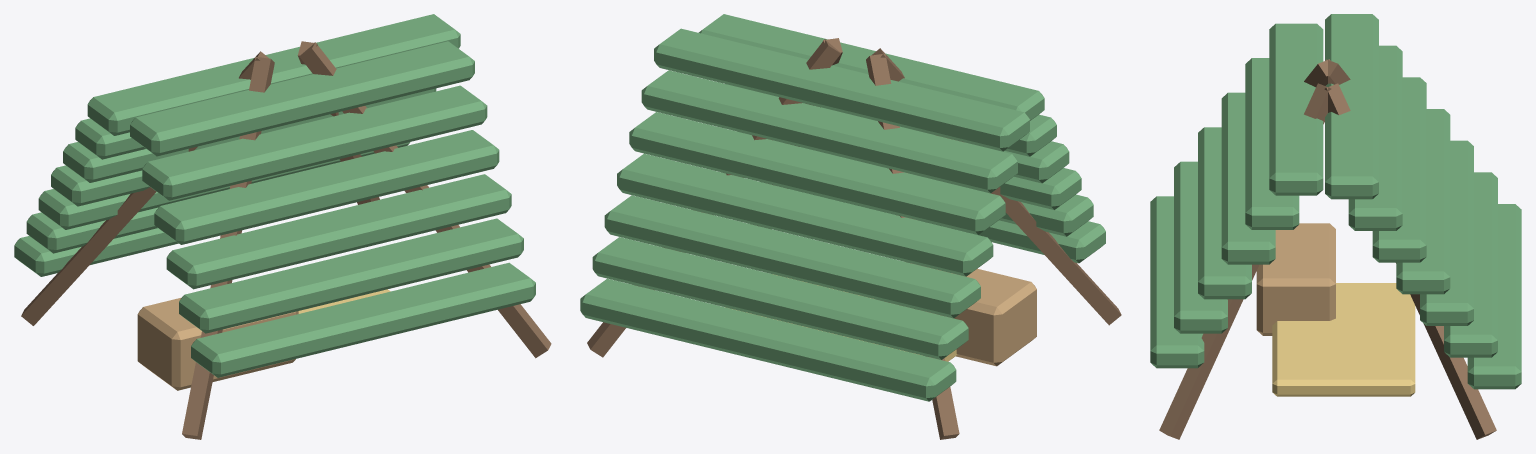
Rendered from hunters-hide.glb.
The picture shows the model from 3 angles, left to right: view 1: azimuth 30°, elevation 25°; view 2: azimuth 150°, elevation 25°; view 3: azimuth 270°, elevation 25°; orthographic projection. The views are drawn at different scales.
Visible parts, largest first — view 1: hunters-hide; view 2: hunters-hide; view 3: hunters-hide.
Boxes of the visible parts, x1=… form: hunters-hide: x1=14, y1=14, x2=551, y2=439; hunters-hide: x1=580, y1=14, x2=1121, y2=439; hunters-hide: x1=1150, y1=14, x2=1521, y2=439.
Bounding box in the file's own units: 2.63 × 1.96 × 2.34.
